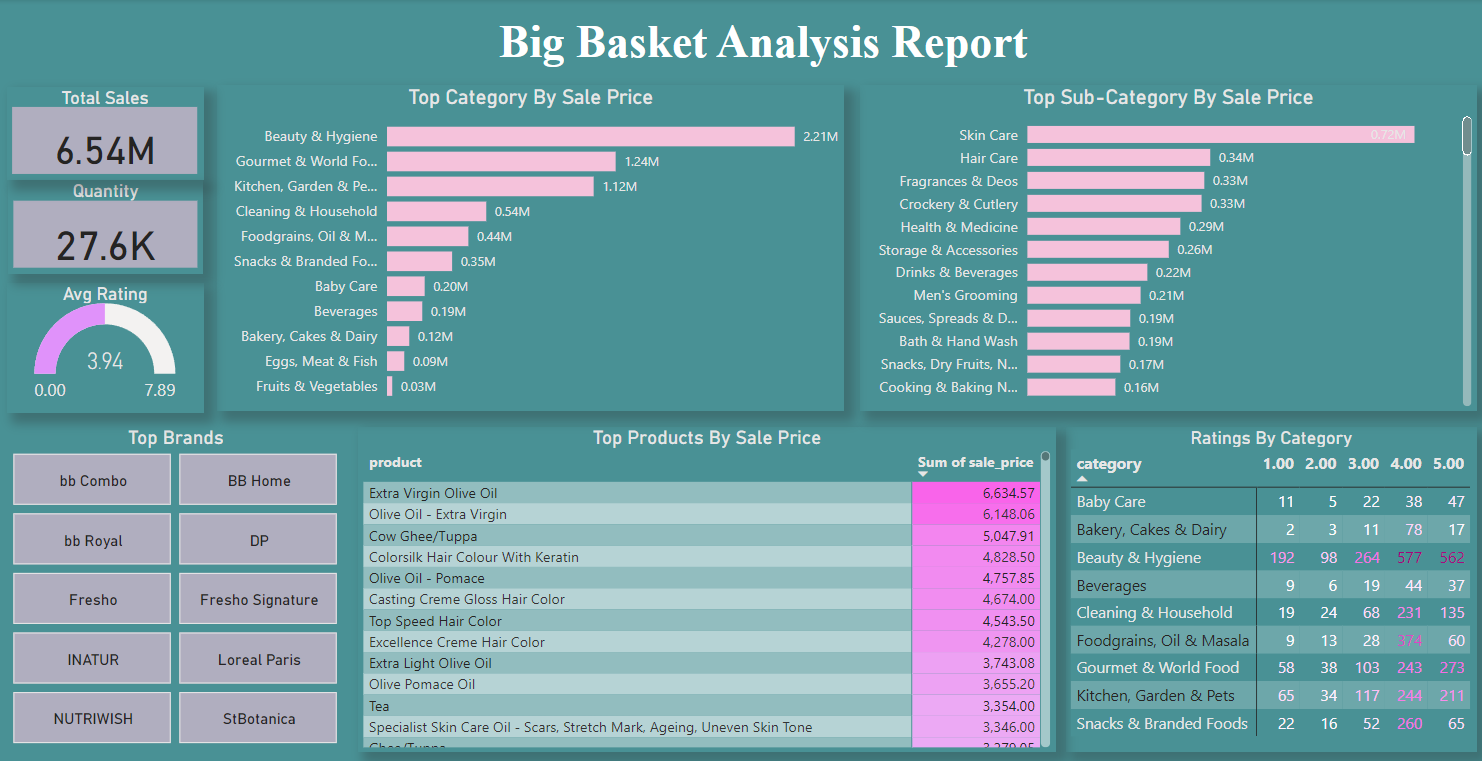

The page's visual inventory and layout, read from the dashboard file:
{"tool":"powerbi","page":{"name":"Page 1","canvas":[1400,720],"ordinal":0},"visuals":[{"type":"clusteredBarChart","title":"Top Category By Sale Price","fields":{"Y":["Sum(BigBasketProducts_CleanedData.sale_price)"],"Category":["BigBasketProducts_CleanedData.category"]},"box":[206.8,81.1,589.8,306.7],"z":0},{"type":"pivotTable","title":"Top Products By Sale Price","fields":{"Rows":["BigBasketProducts_CleanedData.product"],"Values":["Sum(BigBasketProducts_CleanedData.sale_price)"]},"box":[339.6,401.8,655.6,306.7],"z":1000},{"type":"clusteredBarChart","title":"Top Sub-Category By Sale Price","fields":{"Category":["BigBasketProducts_CleanedData.sub_category"],"Y":["Sum(BigBasketProducts_CleanedData.sale_price)"]},"box":[810.7,81.1,580.4,306.7],"z":2000},{"type":"pivotTable","title":"Ratings By Category","fields":{"Rows":["BigBasketProducts_CleanedData.category"],"Columns":["BigBasketProducts_CleanedData.rating"],"Values":["CountNonNull(BigBasketProducts_CleanedData.product)"]},"box":[1004.6,401.8,386.6,306.7],"z":3000},{"type":"advancedSlicerVisual","title":"Top Brands","fields":{"Values":["BigBasketProducts_CleanedData.brand"]},"box":[10.6,401.8,314.9,306.7],"z":4000},{"type":"cardVisual","title":"Quantity","fields":{"Data":["CountNonNull(BigBasketProducts_CleanedData.product)"]},"box":[10.2,170.4,183.1,87.8],"z":5000},{"type":"cardVisual","title":"Total Sales","fields":{"Data":["Sum(BigBasketProducts_CleanedData.sale_price)"]},"box":[8.9,82.7,184.4,87.8],"z":6000},{"type":"gauge","title":"Avg Rating","fields":{"Y":["Avg(BigBasketProducts_CleanedData.rating)"]},"box":[8.9,267.1,184.4,122.1],"z":7000},{"type":"textbox","box":[0,10.6,1400.5,61.1],"z":8000}]}

Visuals, with their boxes in screenshot pixels (x1, y1, x2, y2), scaled from the page's 1400x720 canvas onto the 1482x761 screenshot:
"Top Category By Sale Price" clusteredBarChart: (219, 86, 843, 410)
"Top Products By Sale Price" pivotTable: (359, 425, 1053, 749)
"Top Sub-Category By Sale Price" clusteredBarChart: (858, 86, 1473, 410)
"Ratings By Category" pivotTable: (1063, 425, 1473, 749)
"Top Brands" advancedSlicerVisual: (11, 425, 345, 749)
"Quantity" cardVisual: (11, 180, 205, 273)
"Total Sales" cardVisual: (9, 87, 205, 180)
"Avg Rating" gauge: (9, 282, 205, 411)
textbox: (0, 11, 1481, 76)
